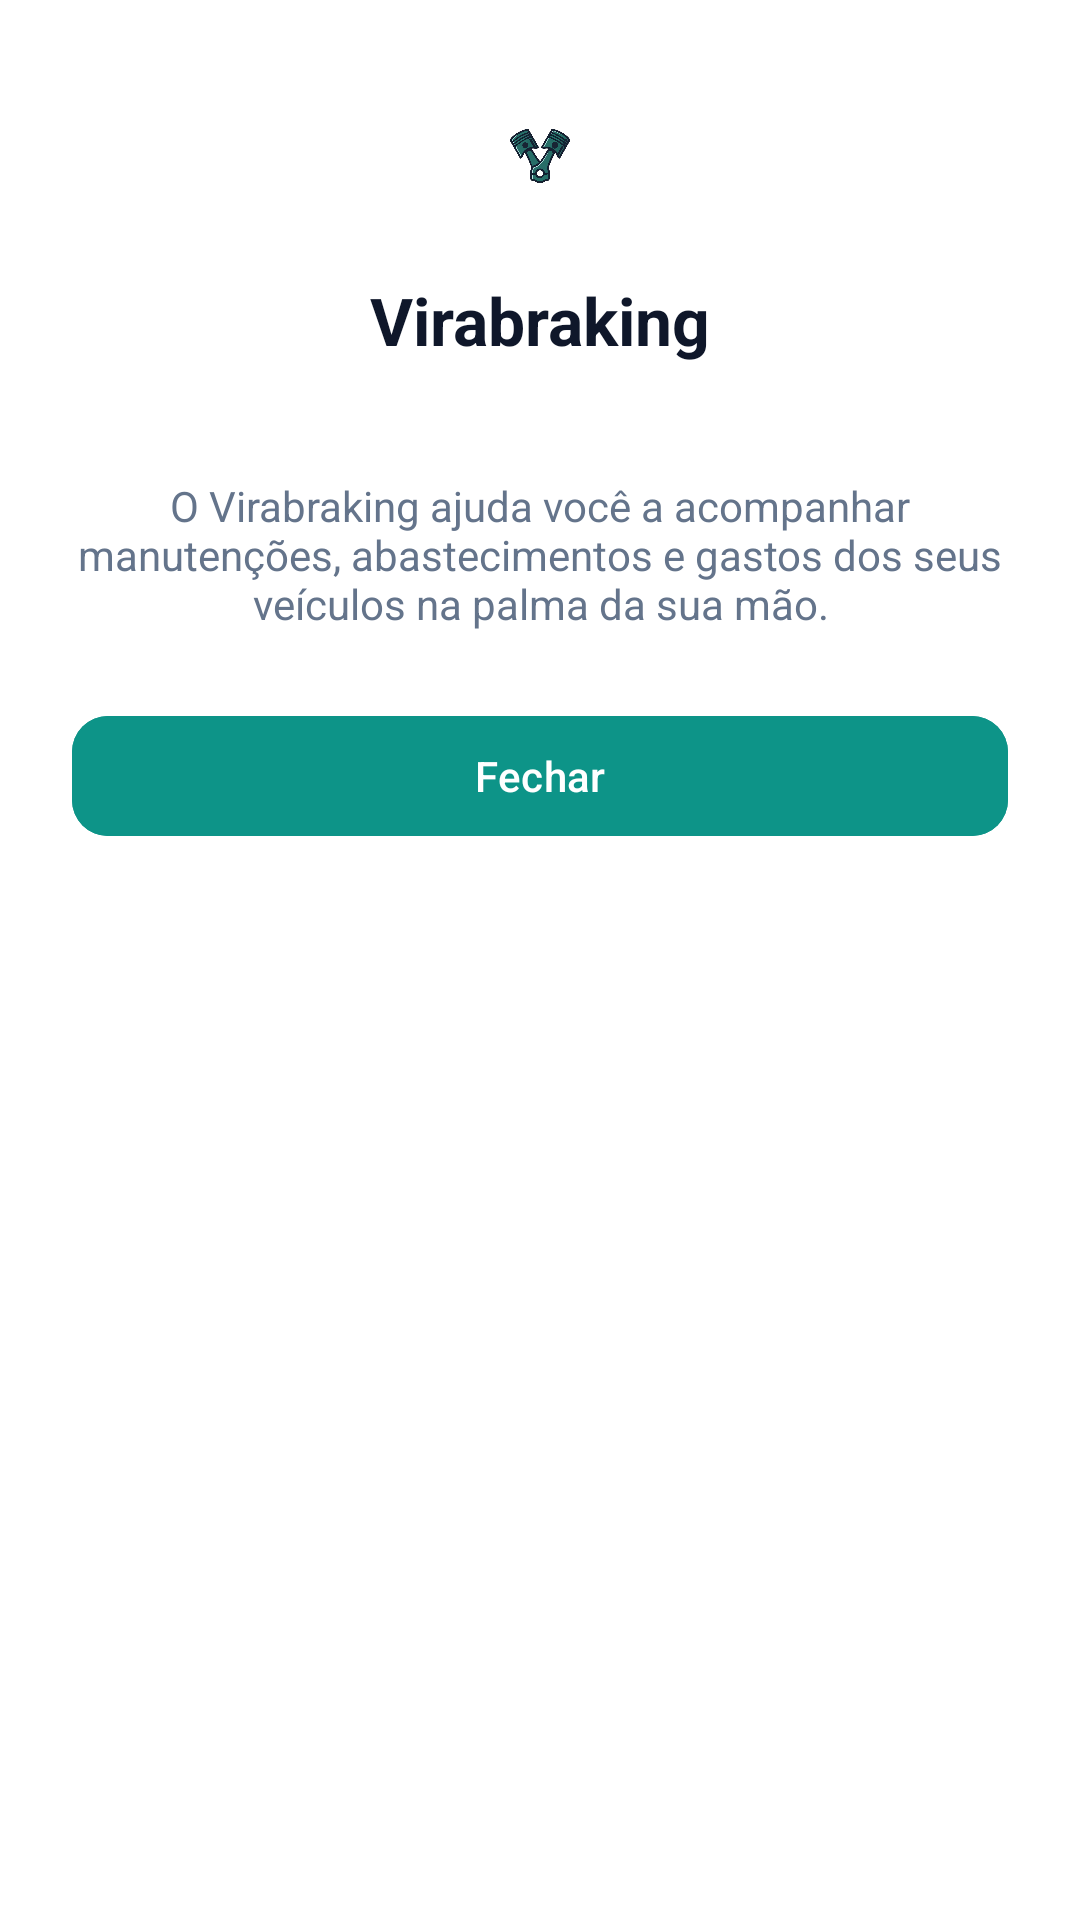

Locate icon controls on the screen. Image size 1080x1920, boxes as (x1, y1, x2, y2).
pistoes: (510, 129, 570, 183)
